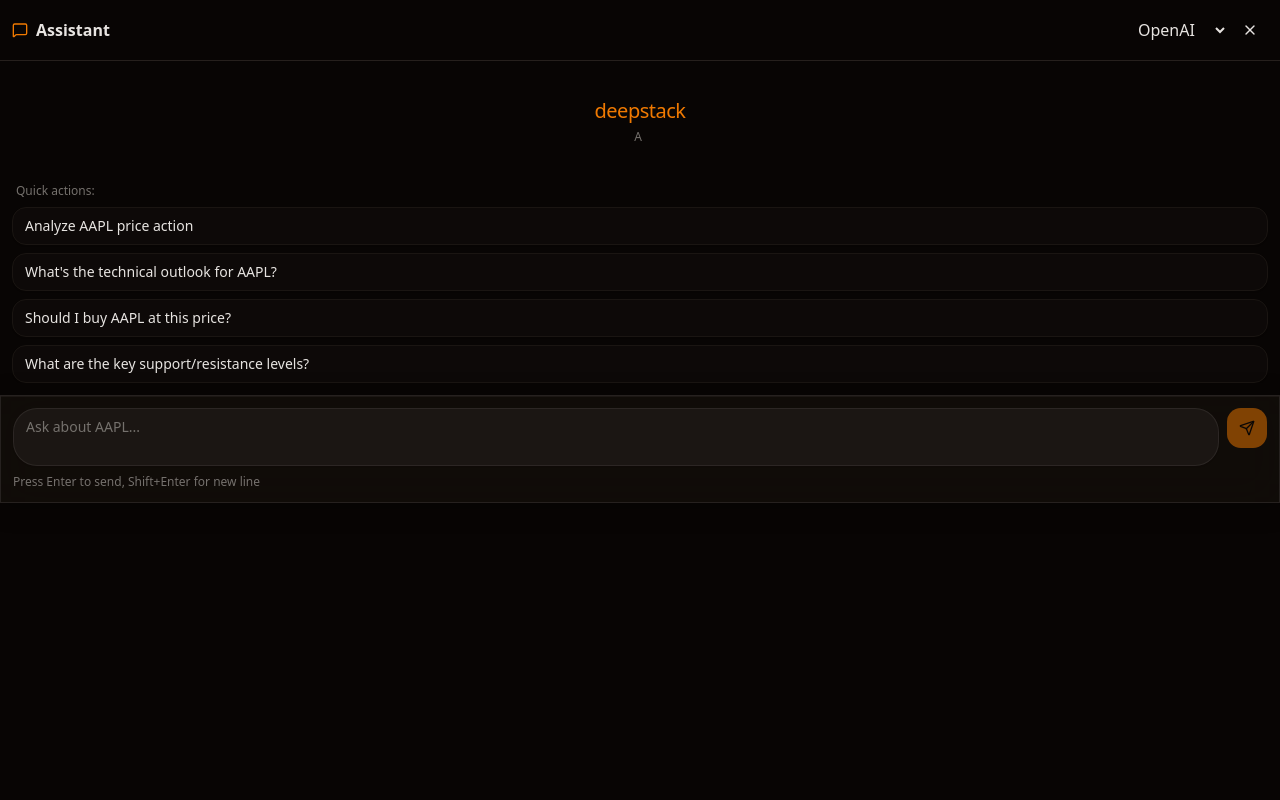
Test: ChatSidePanel › Empty State › populates input when quick prompt is clicked
This screenshot has width=1280, height=800.
Step 1. Click the button "Analyze AAPL price action" → (109,226), box [12,207,1268,245]
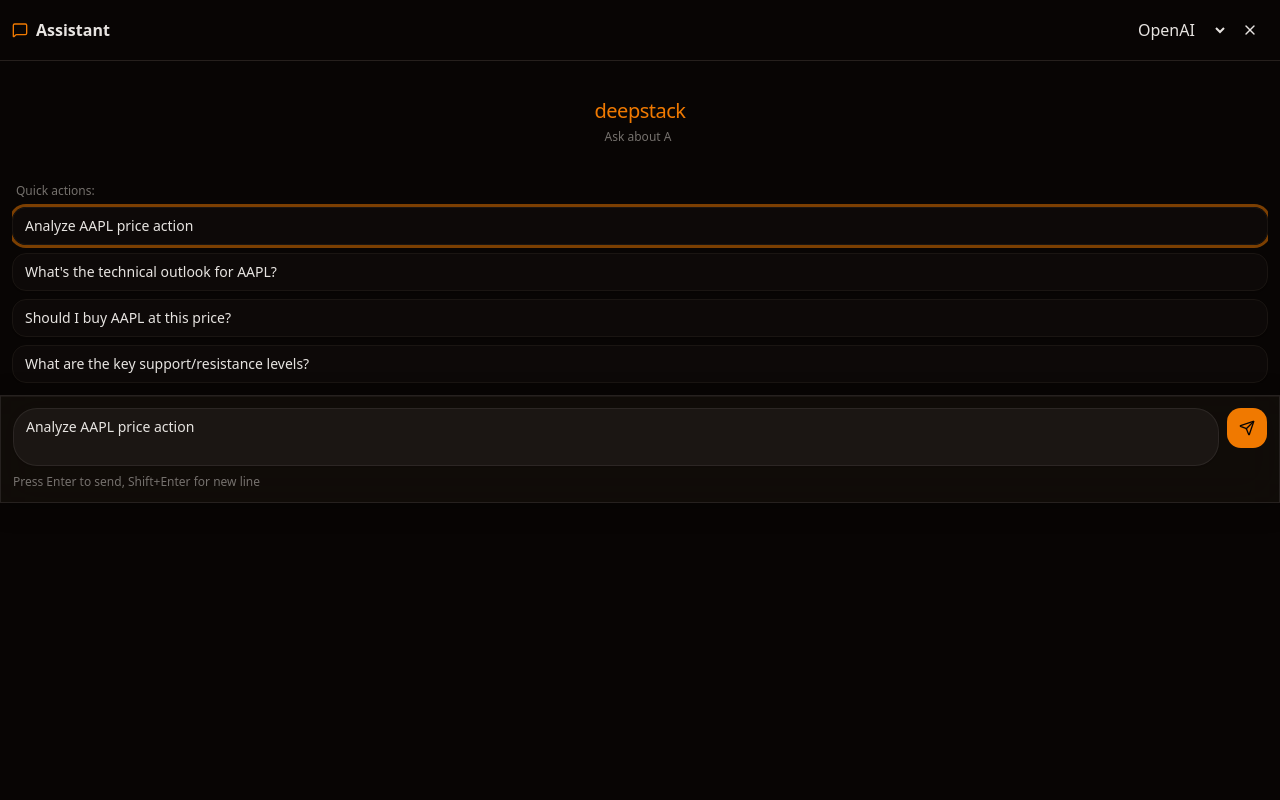
Expected: the text box with placeholder "Ask about AAPL..." holds "Analyze AAPL price action", [13,408,1219,466]
